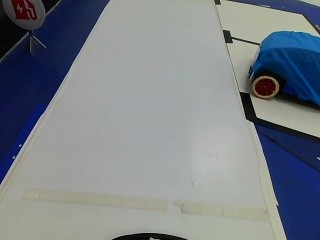battery: (0, 0, 48, 30)
car: (243, 29, 320, 104)
